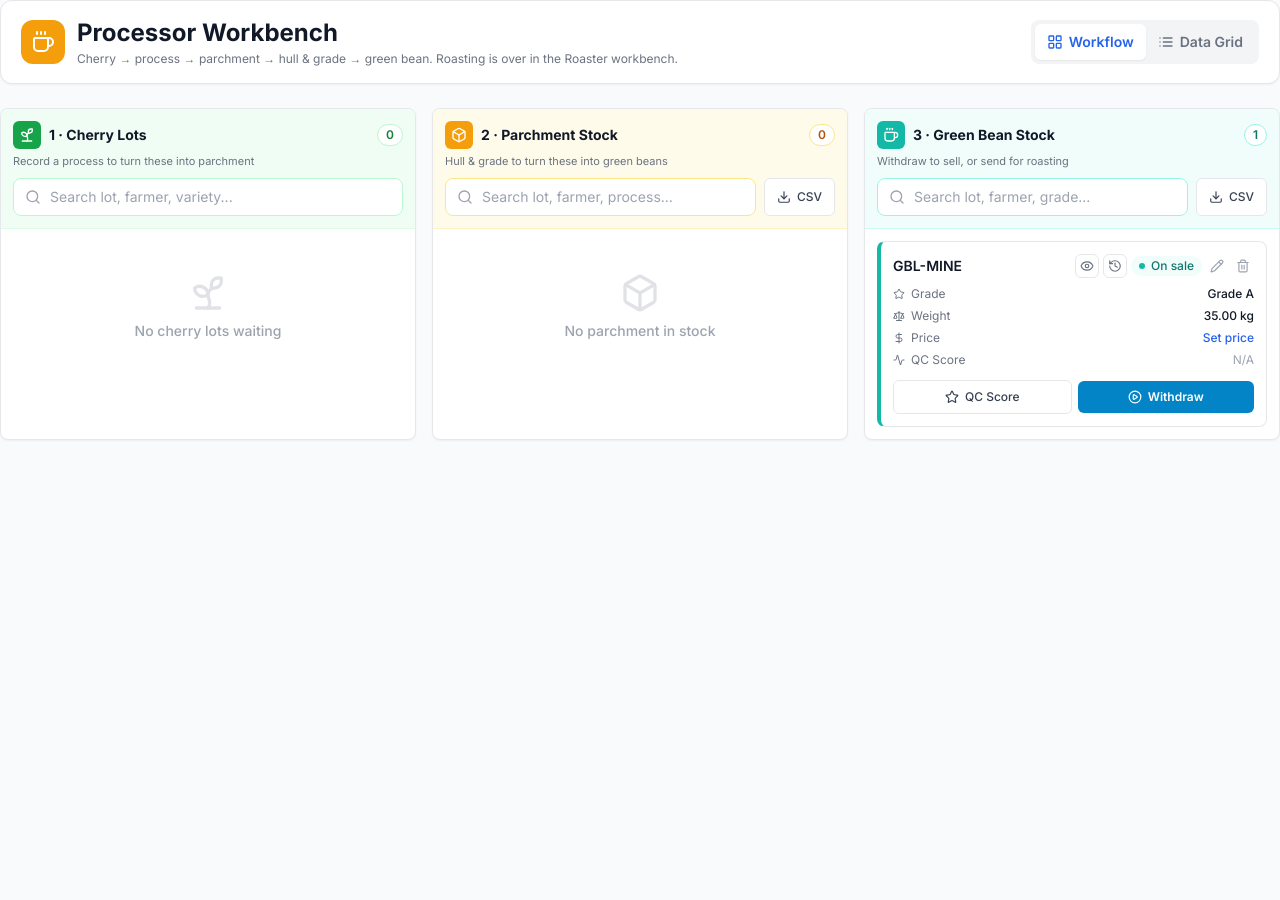
Scenario: Workbench withdrawal Void and Edit (D7) › gives the lot's owner Void on every row and Edit on the Sale
Click the button "Data Grid" at (1200, 42), box top-left (1146, 24), bottom-right (1255, 60)
(page scrolled)
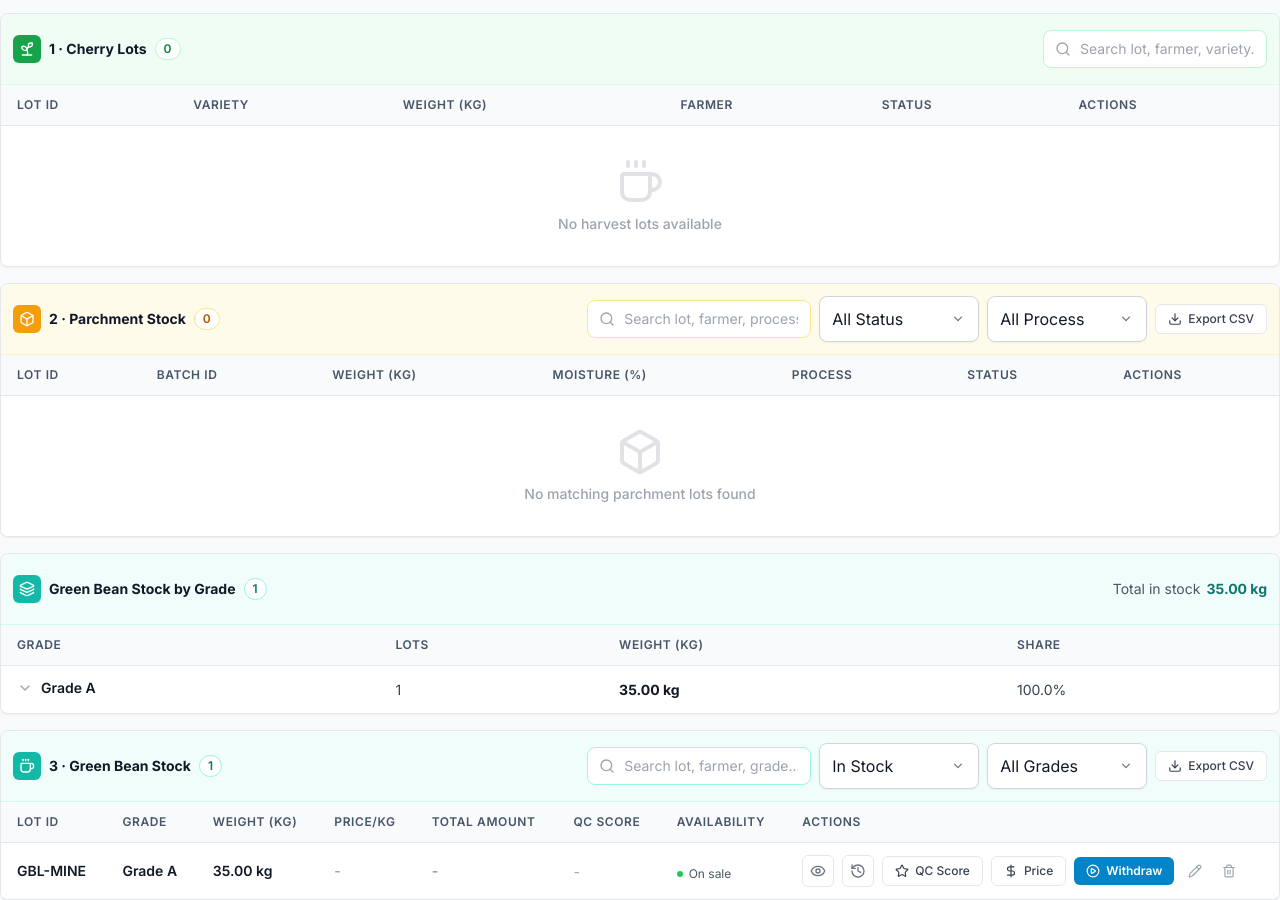
Click the button named "Withdrawal history of green bean lot " at (858, 871), box top-left (842, 855), bottom-right (874, 887)
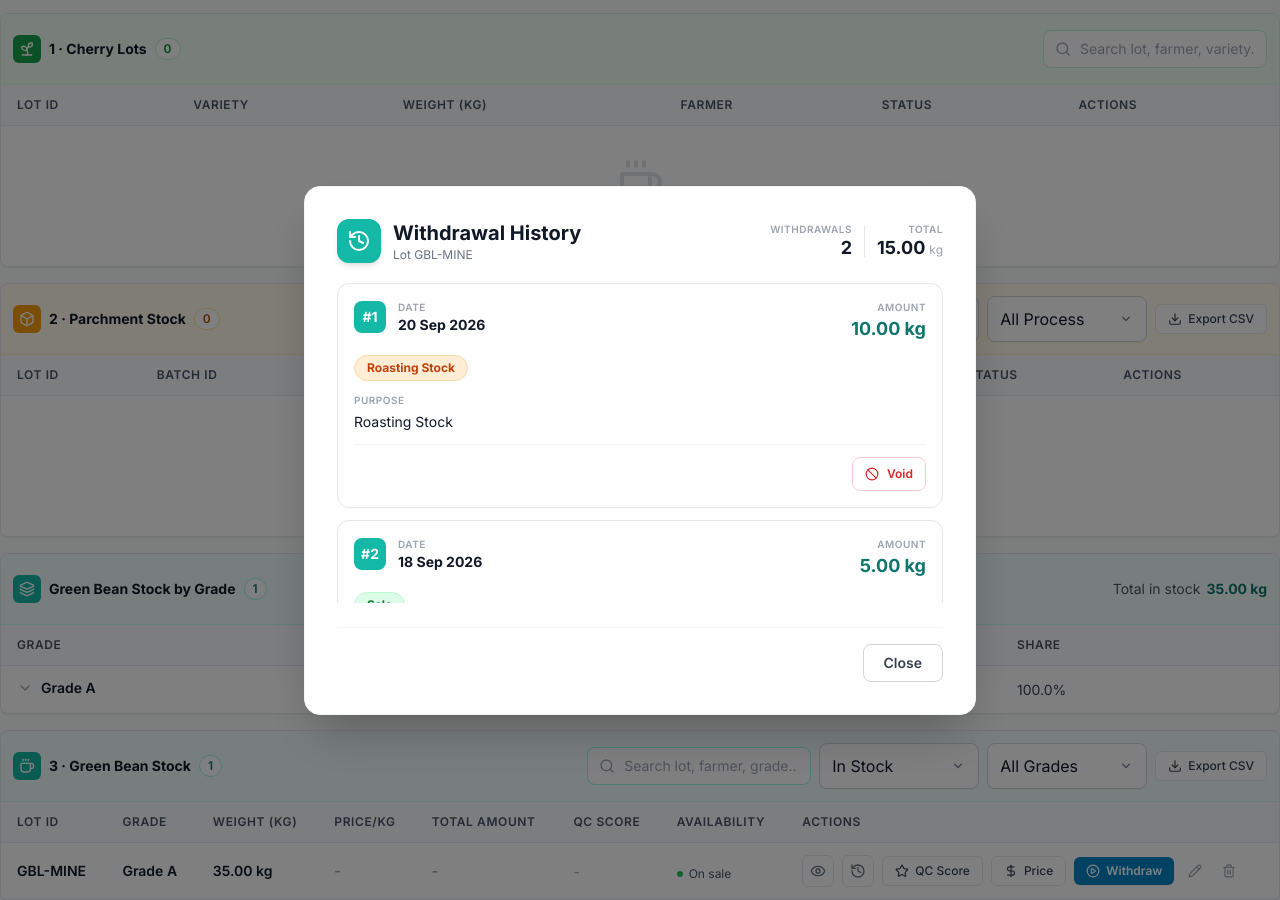
Now the button with aria-label "Void withdrawal" is shown, box top-left (852, 456), bottom-right (926, 490)
